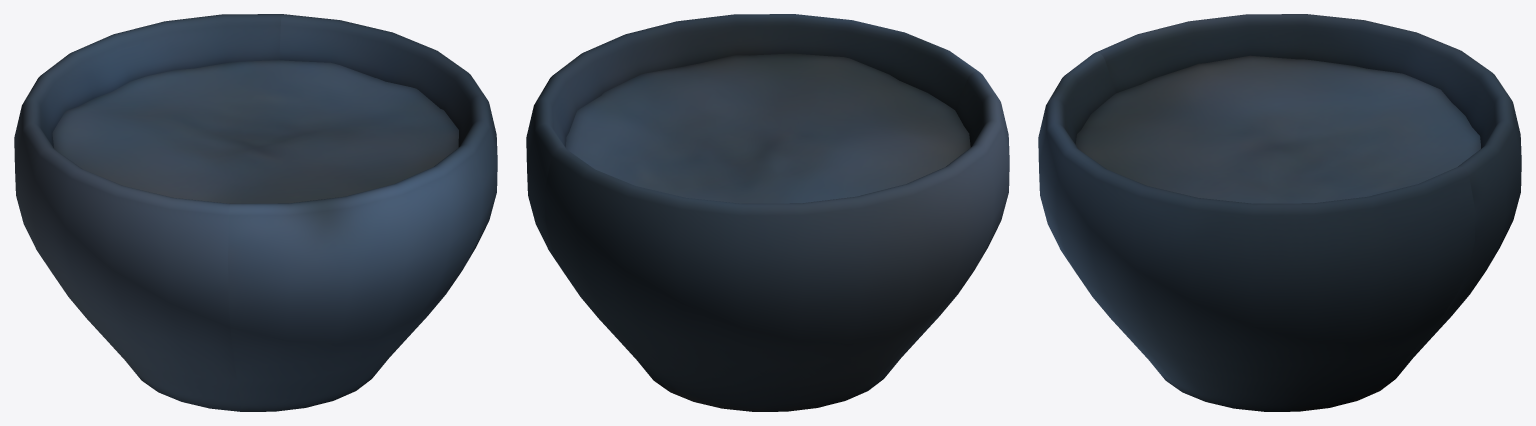
The model's file is FlowerPot.gltf.
3 views of the same model, side by side, from view 1: azimuth 30°, elevation 25°; view 2: azimuth 150°, elevation 25°; view 3: azimuth 270°, elevation 25° (orthographic).
Visible parts, largest first — view 1: FlowerPot; view 2: FlowerPot; view 3: FlowerPot.
Boxes of the visible parts, x1,y1,x2,y2 form: FlowerPot: (14,14,497,411); FlowerPot: (526,14,1009,411); FlowerPot: (1038,14,1521,411).
Bounding box in the file's own units: 0.2946 × 0.168 × 0.2946.
Materials: 2 (2 with a texture image).
